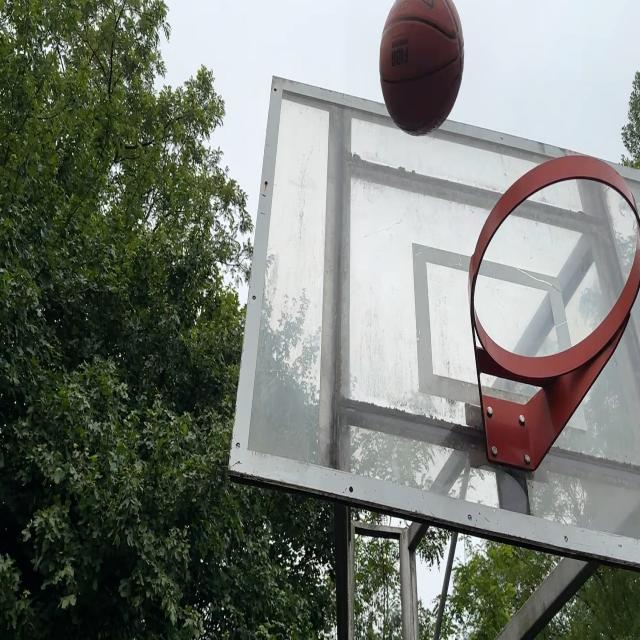Basketball: (380, 2, 465, 138)
